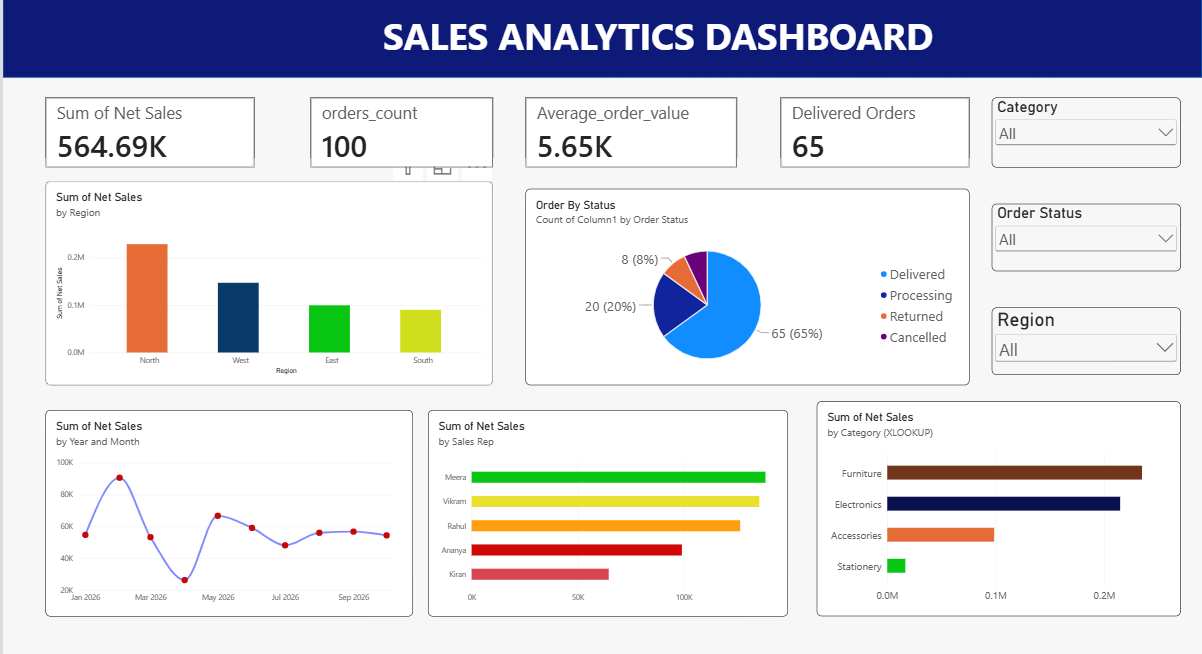

The page's visual inventory and layout, read from the dashboard file:
{"tool":"powerbi","page":{"name":"Page 1","canvas":[1920,1080],"ordinal":0},"visuals":[{"type":"clusteredColumnChart","fields":{"Category":["OrdersTable.Region"],"Y":["Sum(OrdersTable.Net Sales)"]},"box":[68,298,716,326],"z":0},{"type":"pieChart","title":"Order By Status","fields":{"Category":["OrdersTable.Order Status"],"Y":["CountNonNull(OrdersTable.Column1)"]},"box":[836,310,710,314],"z":1000},{"type":"clusteredBarChart","fields":{"Category":["OrdersTable.Category (XLOOKUP)"],"Y":["Sum(OrdersTable.Net Sales)"]},"box":[1302,650,582,344],"z":2000},{"type":"lineChart","fields":{"Category":["OrdersTable.Order Date.Variation.Date Hierarchy.Year","OrdersTable.Order Date.Variation.Date Hierarchy.Month"],"Y":["Sum(OrdersTable.Net Sales)"]},"box":[68,664,588,330],"z":3000},{"type":"clusteredBarChart","fields":{"Category":["OrdersTable.Sales Rep"],"Y":["Sum(OrdersTable.Net Sales)"]},"box":[680,664,576,330],"z":4000},{"type":"cardVisual","fields":{"Data":["Sum(OrdersTable.Net Sales)"]},"box":[68,164,334,112],"z":5000},{"type":"cardVisual","fields":{"Data":["OrdersTable.orders_count"]},"box":[492,164,292,112],"z":6000},{"type":"cardVisual","fields":{"Data":["OrdersTable.Average_order_value"]},"box":[836,164,338,112],"z":7000},{"type":"cardVisual","fields":{"Data":["OrdersTable.Delivered Orders"]},"box":[1244,164,302,112],"z":8000},{"type":"slicer","fields":{"Values":["OrdersTable.Region"]},"box":[1582,500,302,108],"z":9000},{"type":"slicer","fields":{"Values":["Table3.Category"]},"box":[1582,164,302,112],"z":10000},{"type":"slicer","fields":{"Values":["OrdersTable.Order Status"]},"box":[1582,334,302,108],"z":11000},{"type":"shape","box":[0,0,1920,132],"z":11001},{"type":"textbox","box":[608,24,938,86],"z":11002}]}

Visuals, with their boxes on the page's 1920x1080 design canvas (x1, y1, x2, y2). These are canvas units, not pixel positions in the 1202x654 screenshot, which may show the page scaled, cropped or inside an application window:
clusteredColumnChart - OrdersTable.Region x Sum(OrdersTable.Net Sales): <bbox>68, 298, 784, 624</bbox>
"Order By Status" pieChart: <bbox>836, 310, 1546, 624</bbox>
clusteredBarChart - OrdersTable.Category (XLOOKUP) x Sum(OrdersTable.Net Sales): <bbox>1302, 650, 1884, 994</bbox>
lineChart - OrdersTable.Order Date.Variation.Date Hierarchy.Year x OrdersTable.Order Date.Variation.Date Hierarchy.Month: <bbox>68, 664, 656, 994</bbox>
clusteredBarChart - OrdersTable.Sales Rep x Sum(OrdersTable.Net Sales): <bbox>680, 664, 1256, 994</bbox>
cardVisual - Sum(OrdersTable.Net Sales): <bbox>68, 164, 402, 276</bbox>
cardVisual - OrdersTable.orders_count: <bbox>492, 164, 784, 276</bbox>
cardVisual - OrdersTable.Average_order_value: <bbox>836, 164, 1174, 276</bbox>
cardVisual - OrdersTable.Delivered Orders: <bbox>1244, 164, 1546, 276</bbox>
slicer - OrdersTable.Region: <bbox>1582, 500, 1884, 608</bbox>
slicer - Table3.Category: <bbox>1582, 164, 1884, 276</bbox>
slicer - OrdersTable.Order Status: <bbox>1582, 334, 1884, 442</bbox>
shape: <bbox>0, 0, 1920, 132</bbox>
textbox: <bbox>608, 24, 1546, 110</bbox>
